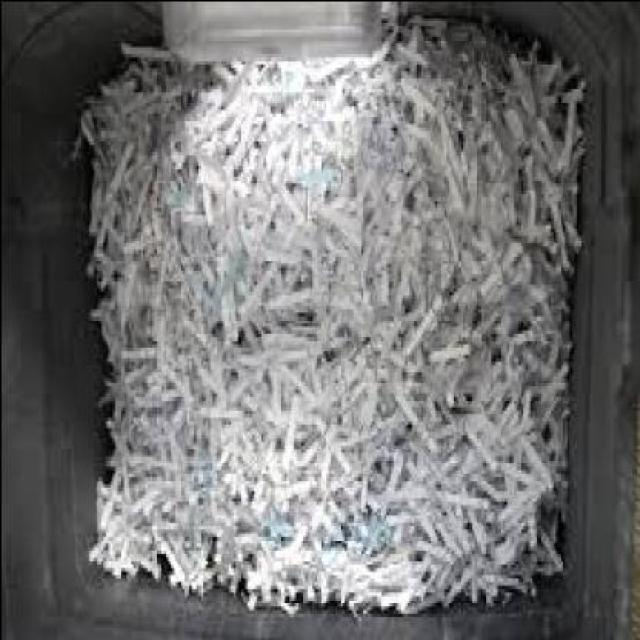PAPER: (73, 21, 584, 612)
